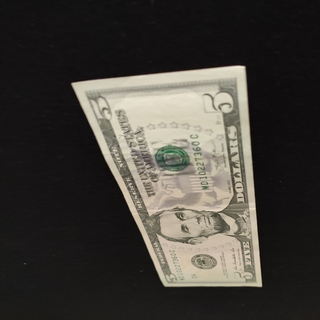5USDFront: (70, 65, 262, 288)
